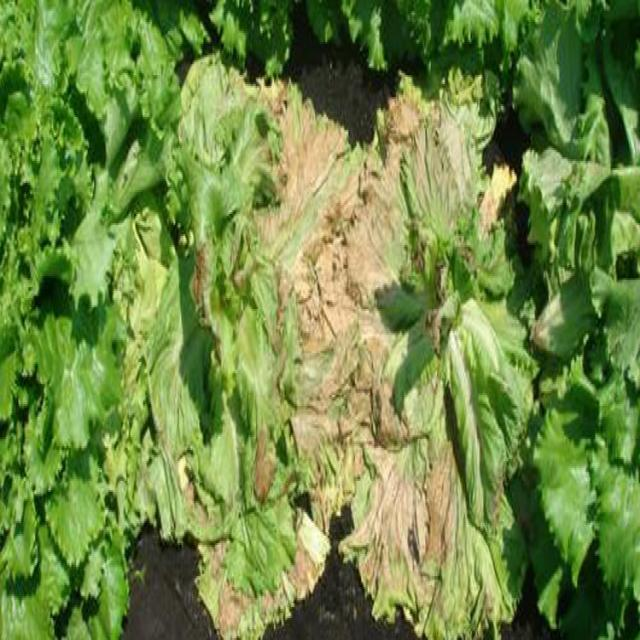Wilt_and_leaf_blight_on_lettuce: (208, 95, 467, 617)
